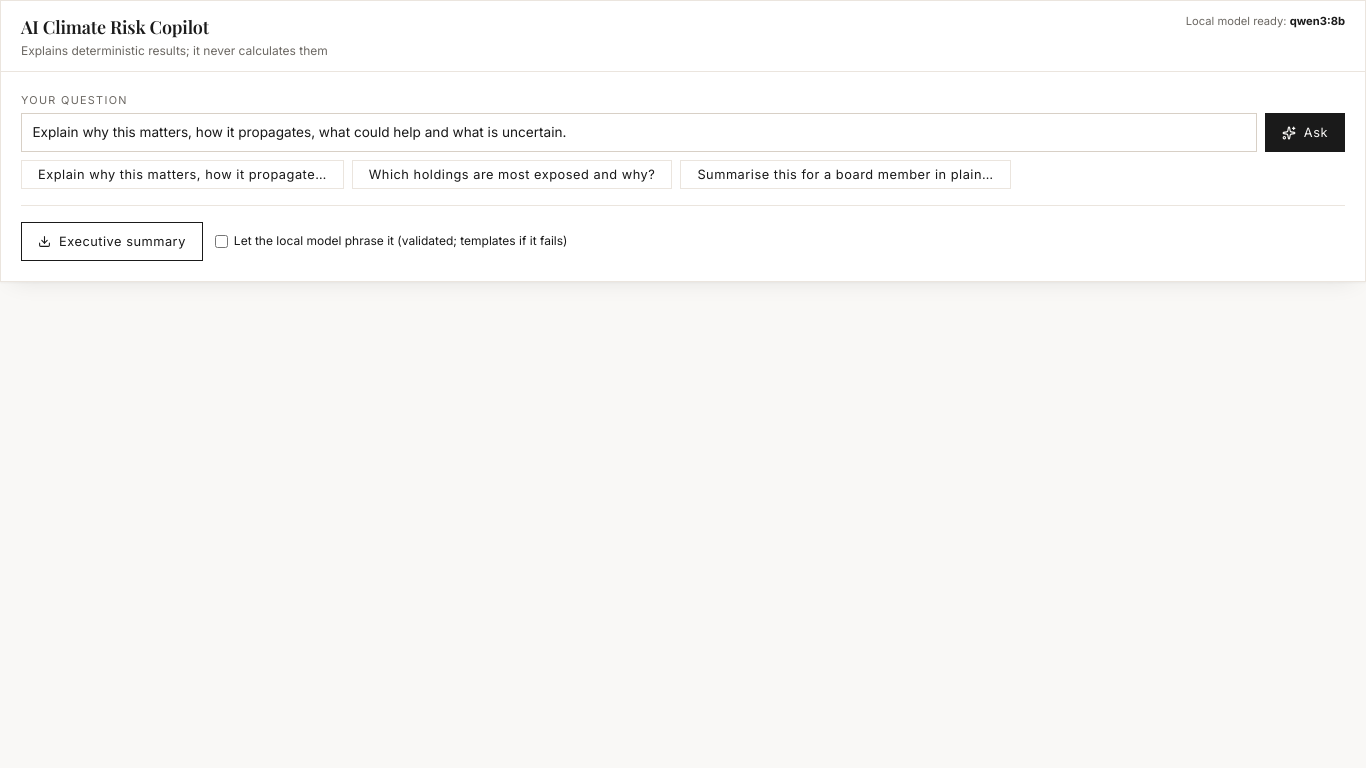
Test: CopilotPanel › lists what the model declined to answer
The image size is (1366, 768).
Click the button "Ask" at (1305,132), box [1265,113,1345,152]
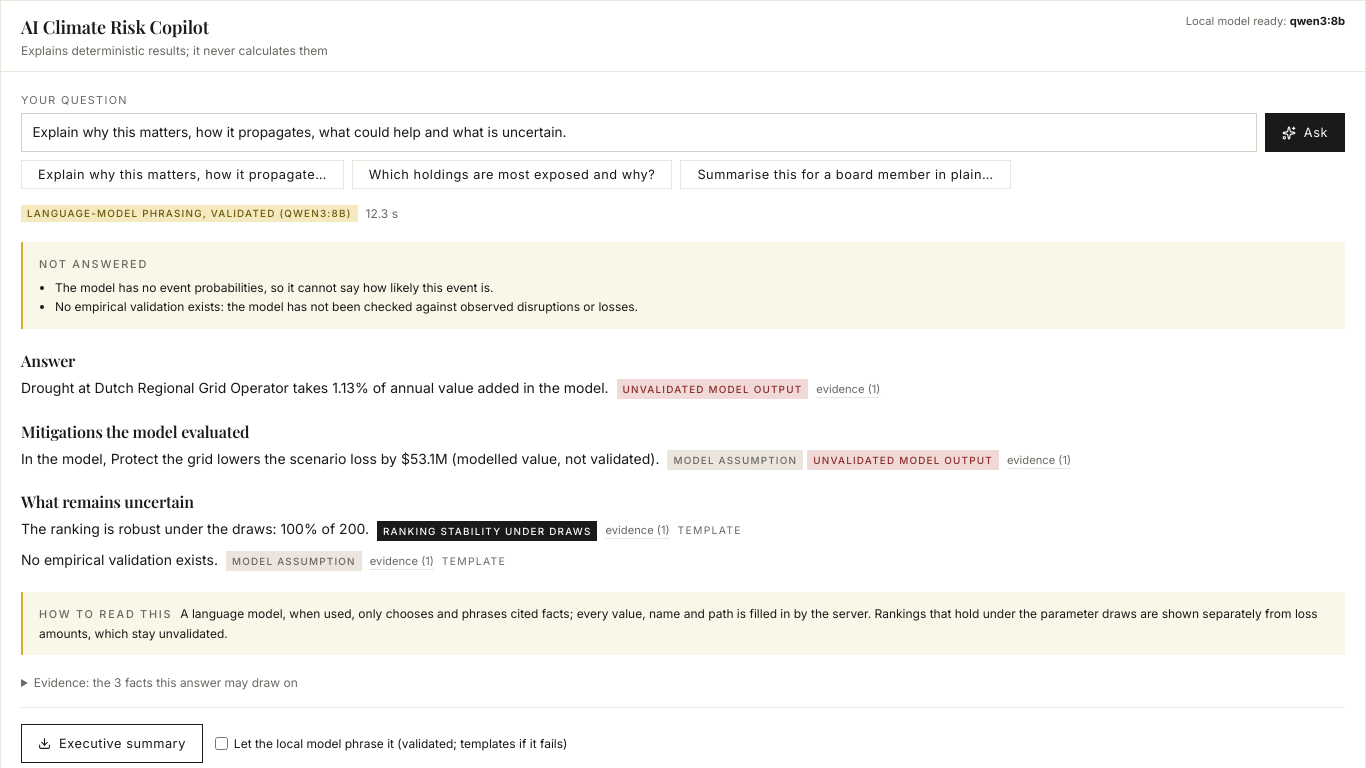
Expected: the list with test id "copilot-unsupported" shows "no event probabilities", [55,280,494,295]
Expected: the list with test id "copilot-unsupported" shows "No empirical validation", [55,300,638,314]
